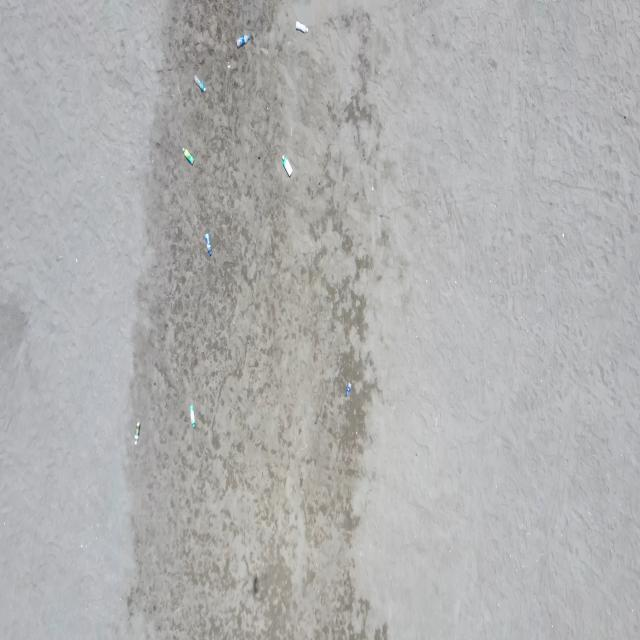Garbage: (281, 156, 292, 176), (236, 33, 251, 47), (203, 232, 211, 256), (193, 75, 204, 91), (181, 148, 192, 164), (188, 403, 195, 427), (134, 420, 140, 444), (296, 20, 307, 32), (252, 575, 258, 595), (344, 384, 351, 396)
